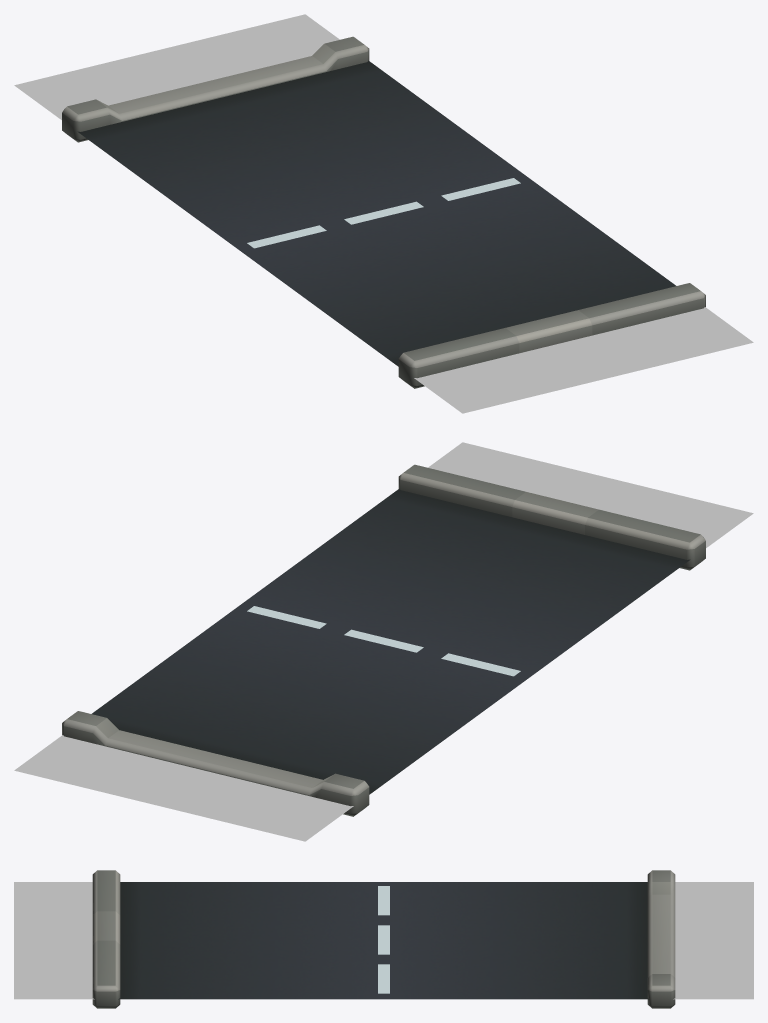
The model's file is road_section_1_driveway.fbx.
The picture shows the model from 3 angles, top to bottom: view 1: azimuth 30°, elevation 25°; view 2: azimuth 150°, elevation 25°; view 3: azimuth 270°, elevation 25°; orthographic projection. The views are drawn at different scales.
Visible parts, largest first — view 1: road_section_1_driveway, road_section_1_driveway_sidewalk; view 2: road_section_1_driveway, road_section_1_driveway_sidewalk; view 3: road_section_1_driveway, road_section_1_driveway_sidewalk.
Boxes of the visible parts, bbox=[...] form: road_section_1_driveway: bbox=[62, 36, 705, 388]; road_section_1_driveway_sidewalk: bbox=[14, 14, 753, 413]; road_section_1_driveway: bbox=[62, 464, 705, 816]; road_section_1_driveway_sidewalk: bbox=[14, 442, 753, 841]; road_section_1_driveway: bbox=[92, 870, 675, 1008]; road_section_1_driveway_sidewalk: bbox=[14, 882, 753, 999].
Bounding box in the file's own units: 610 × 55 × 1600.
